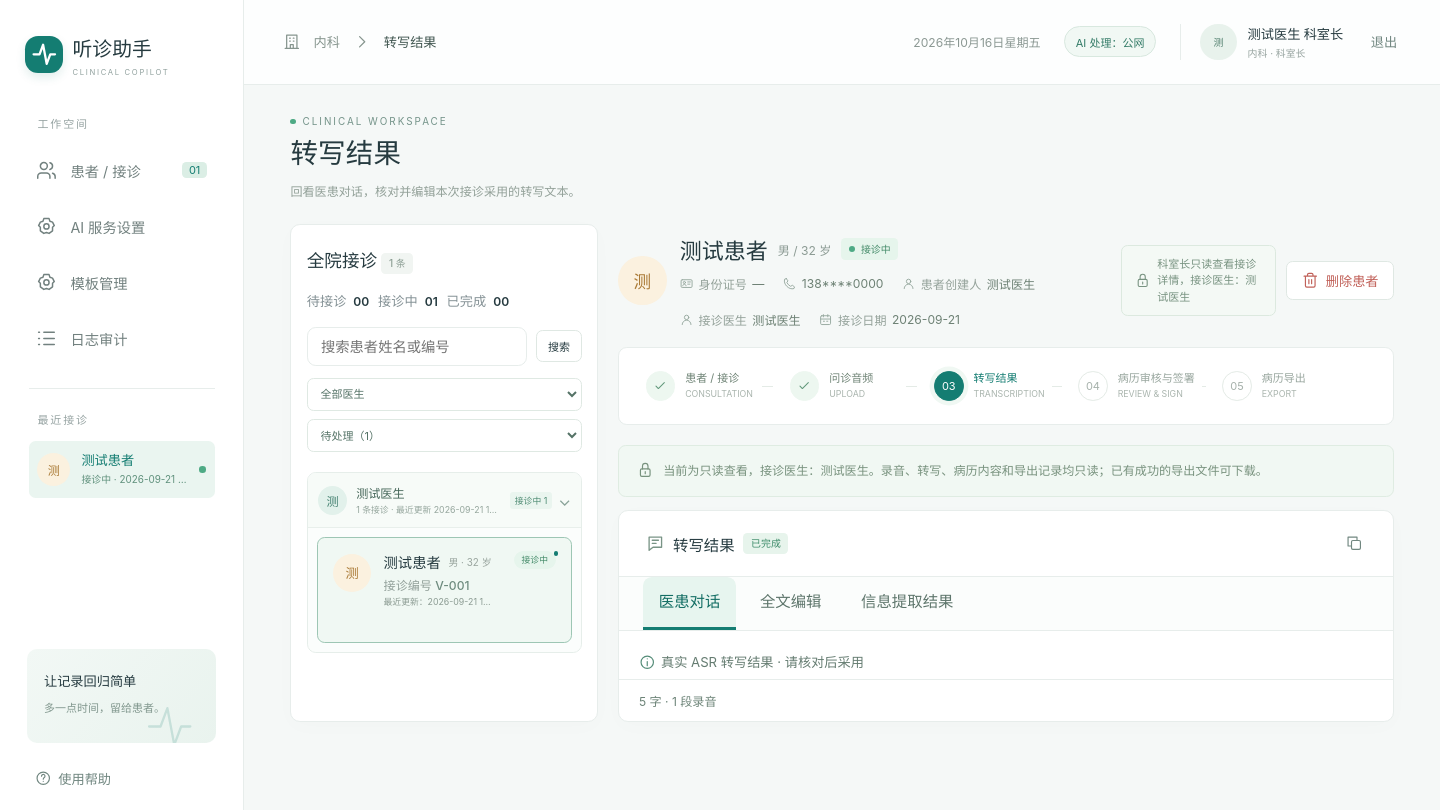
Scenario: department head read-only visit view › shows the persistent file cleanup message while deletion cleanup is pending
The image size is (1440, 810).
Step 1. Click the button with class "danger" → point(1340, 280), box [1286,261,1394,300]
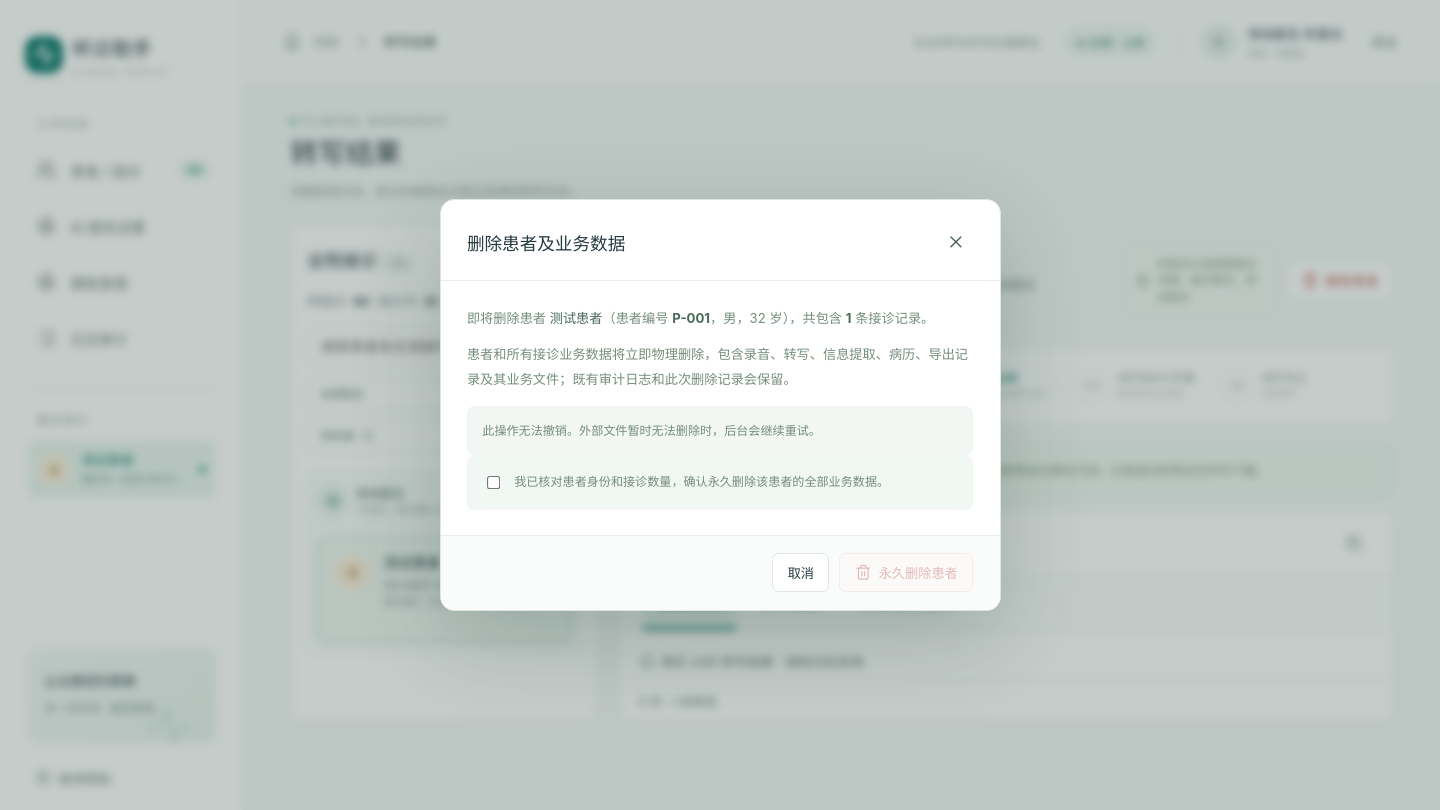
Step 2. Click the checkbox labelled "我已核对患者身份和接诊数量，确认永久删除该患者的全部业务数据。" → point(494, 483), box [487,476,501,490]
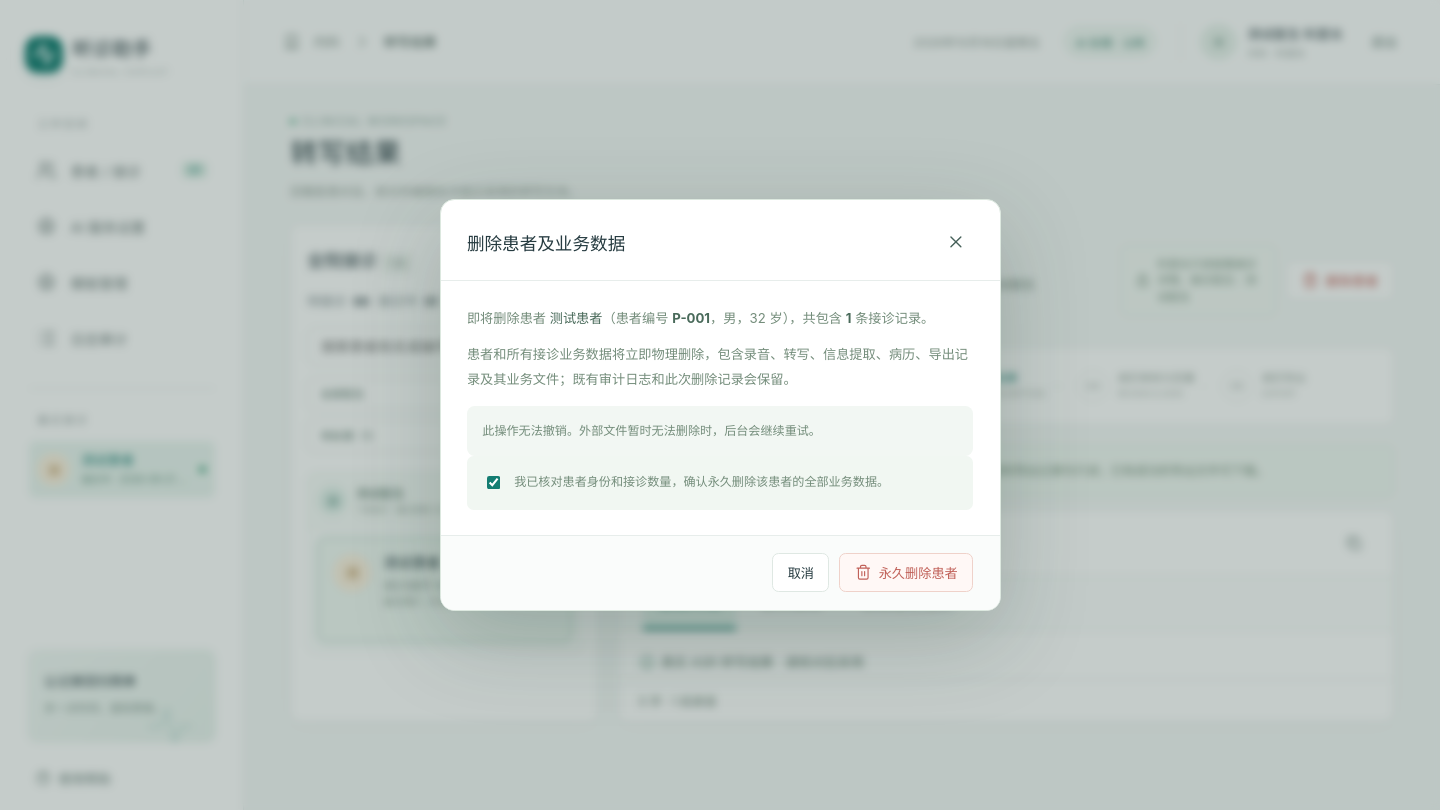
Step 3. Click the button with class "danger" showing "永久删除患者" → point(906, 573), box [839,553,973,592]
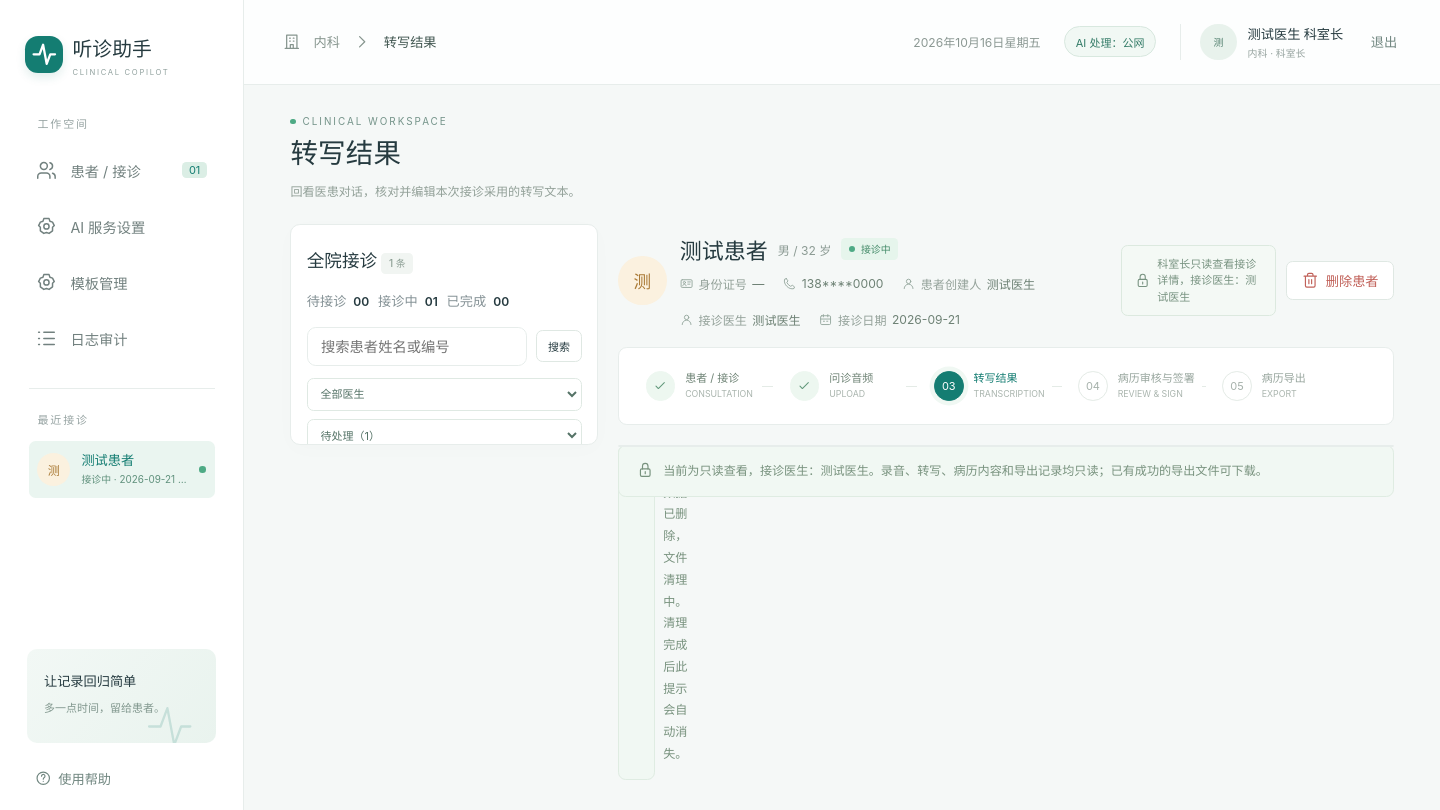
expect the text "业务数据已删除，文件清理中。" is shown: met, box [663,463,687,761]
